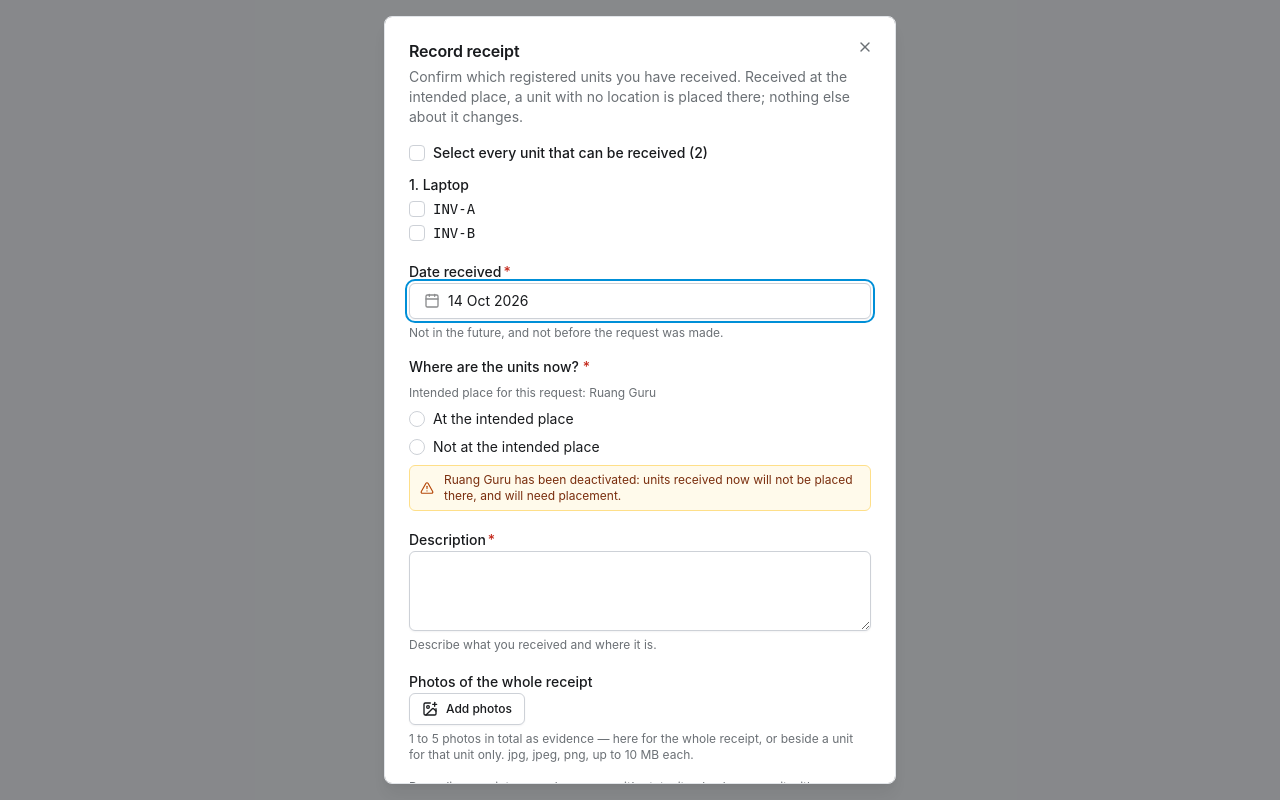
Test: Record receipt — what happens to each unit’s location › warns that a deactivated intended place places nothing
Click the checkbox labelled "INV-A" at (417, 209), box top-left (409, 201), bottom-right (425, 217)
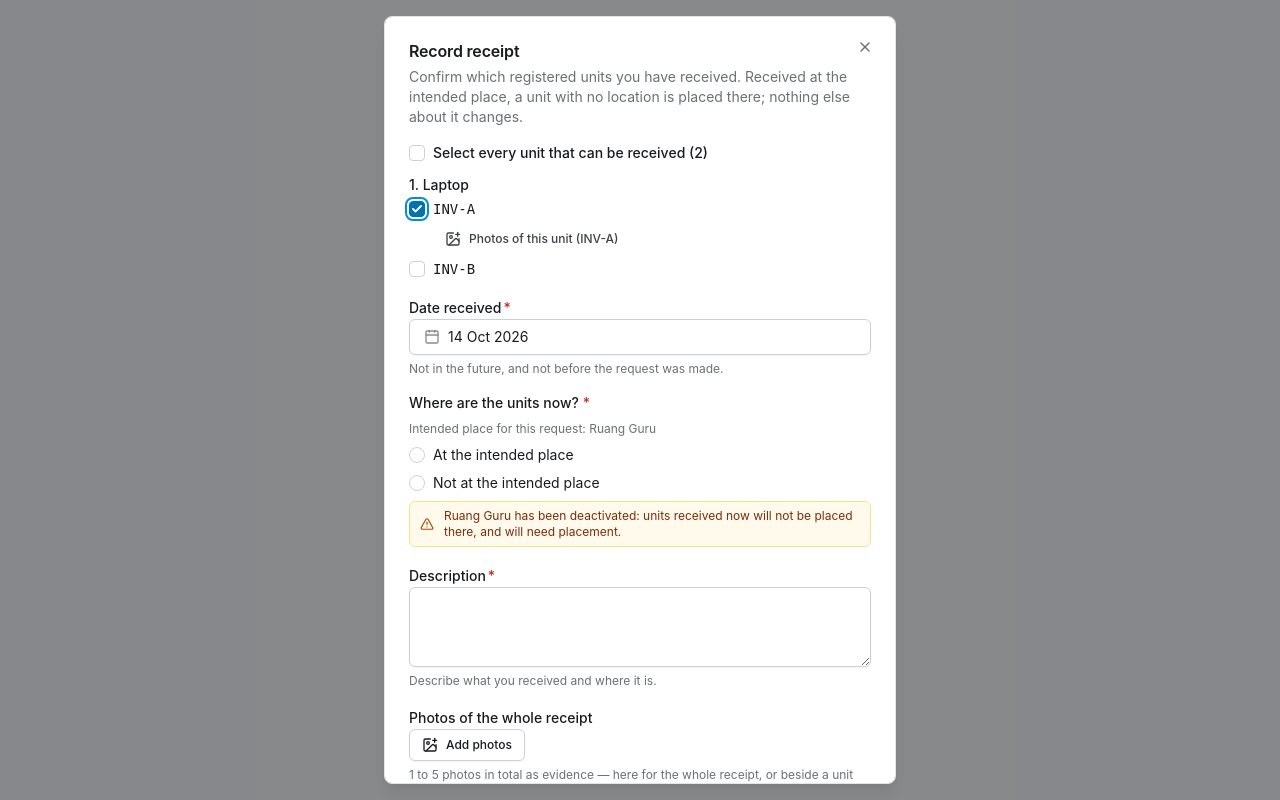
Click the checkbox labelled "INV-B" at (417, 269), box top-left (409, 261), bottom-right (425, 277)
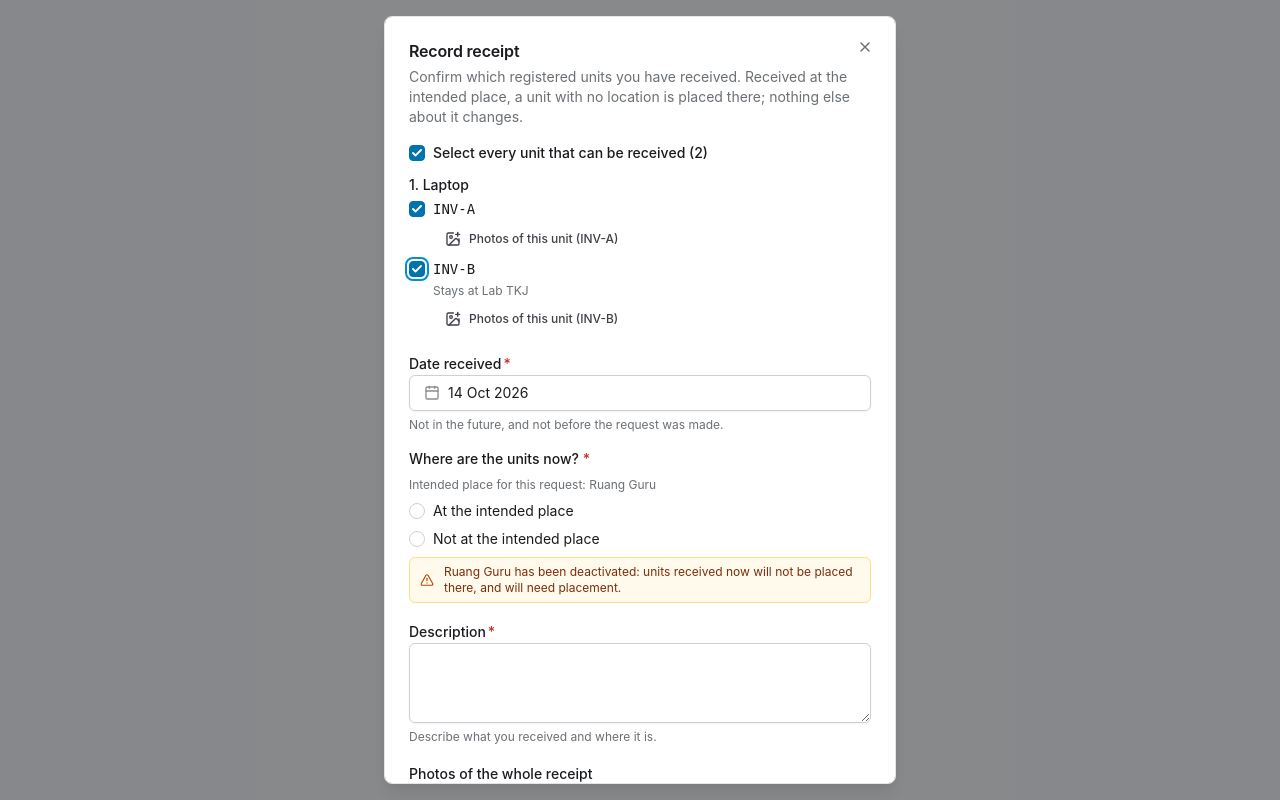
Click the radio button labelled "At the intended place" at (417, 511), box top-left (409, 503), bottom-right (425, 519)
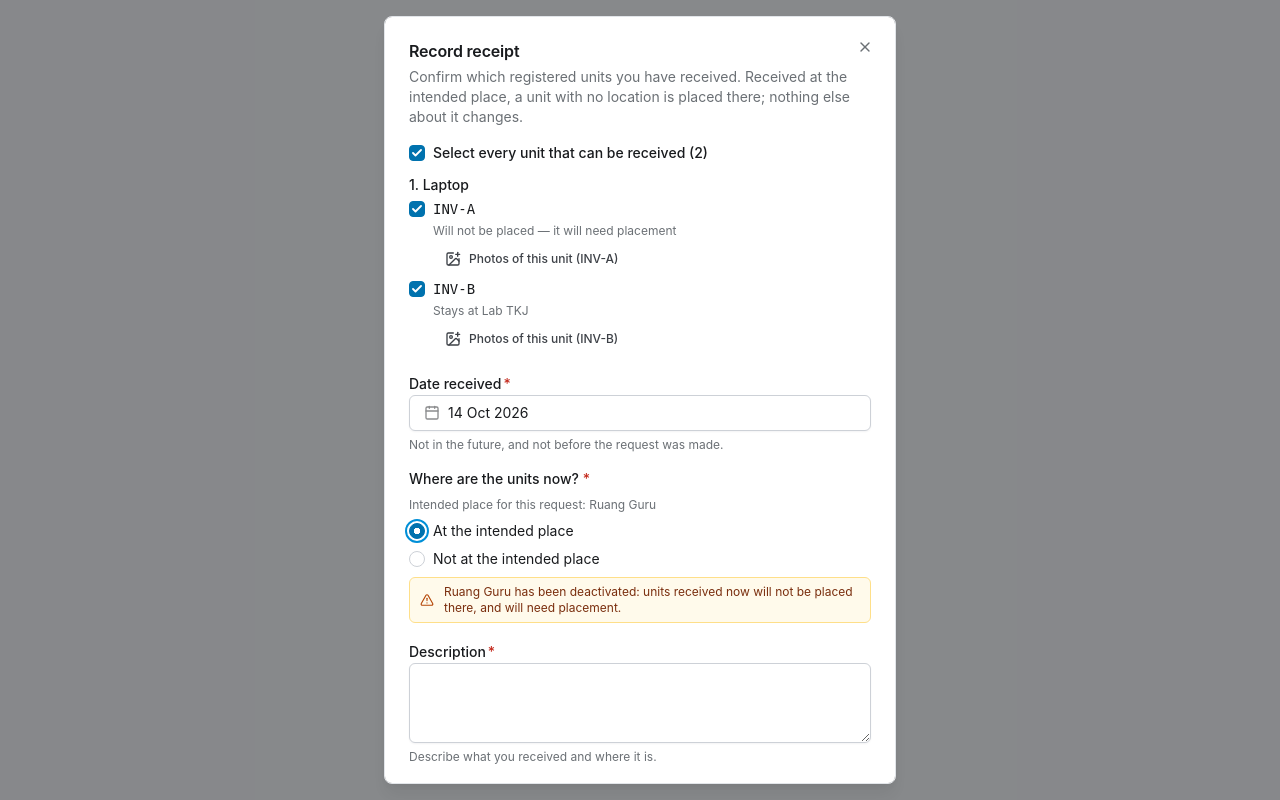
Expected: the element with test id "receipt-destination-inactive" shows "Ruang Guru has been deactivated", top-left (444, 584), bottom-right (853, 615)
Now the text with test id "receipt-unit-placement-INV-A" shows "Will not be placed", box top-left (433, 223), bottom-right (676, 238)
